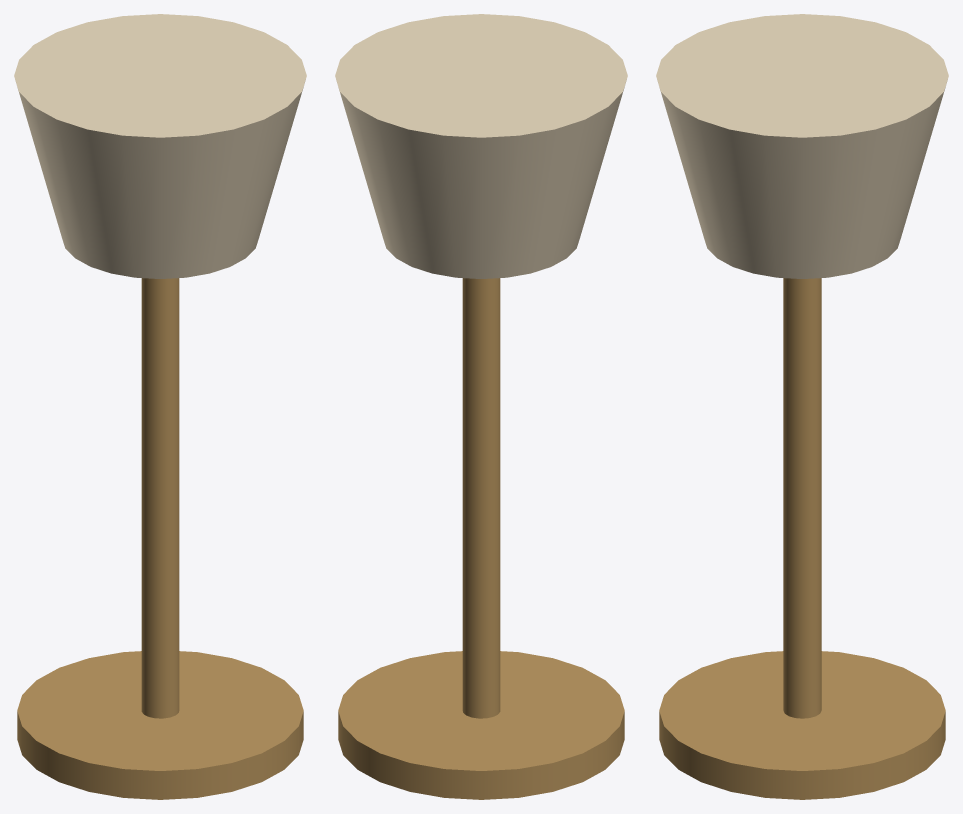
The model's file is lamp.glb.
The picture shows the model from 3 angles, left to right: view 1: azimuth 30°, elevation 25°; view 2: azimuth 150°, elevation 25°; view 3: azimuth 270°, elevation 25°; orthographic projection.
Size of the model in its own units: 0.92 by 2.3 by 0.92.
